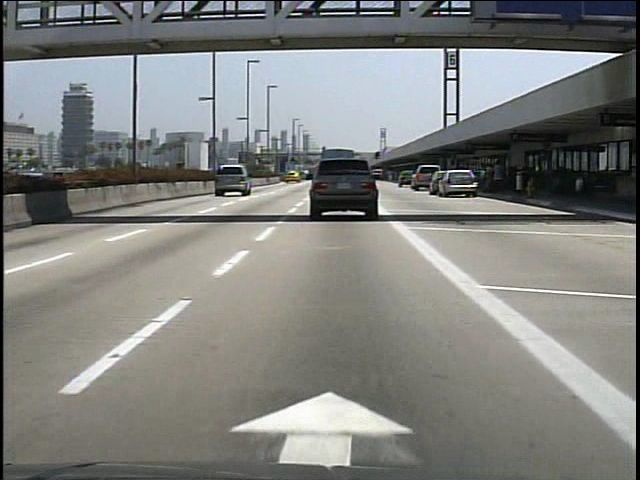person: (490, 156, 509, 195), (479, 161, 493, 195)
